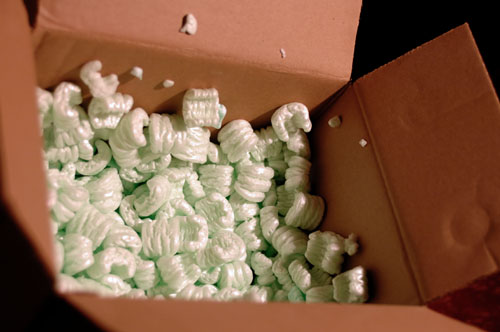Nonrec_Plastic: (36, 79, 373, 295)
